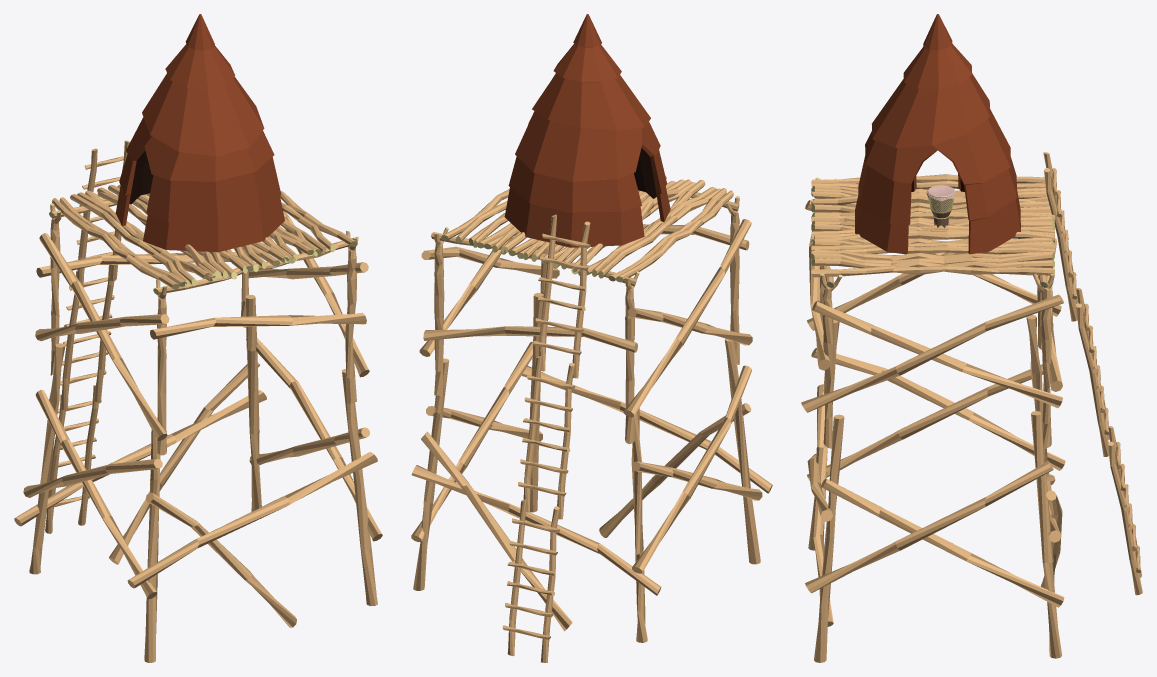
File: torrevigia.fbx
3 renders of one model, left to right at view 1: azimuth 30°, elevation 25°; view 2: azimuth 150°, elevation 25°; view 3: azimuth 270°, elevation 25°, orthographic. The views are drawn at different scales.
Visible parts, largest first — view 1: Circle.005; view 2: Circle.005; view 3: Circle.005.
Part boxes in pixels (box(x1,y1,x2,y2)): Circle.005: box(14, 14, 382, 662); Circle.005: box(411, 14, 772, 662); Circle.005: box(801, 14, 1142, 662).
Bounding box in the file's own units: 378 × 832 × 433.
